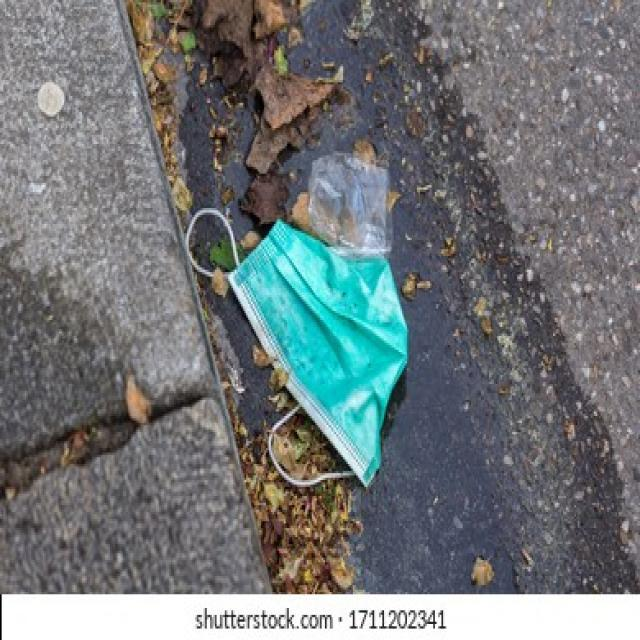face mask: (186, 194, 402, 496)
